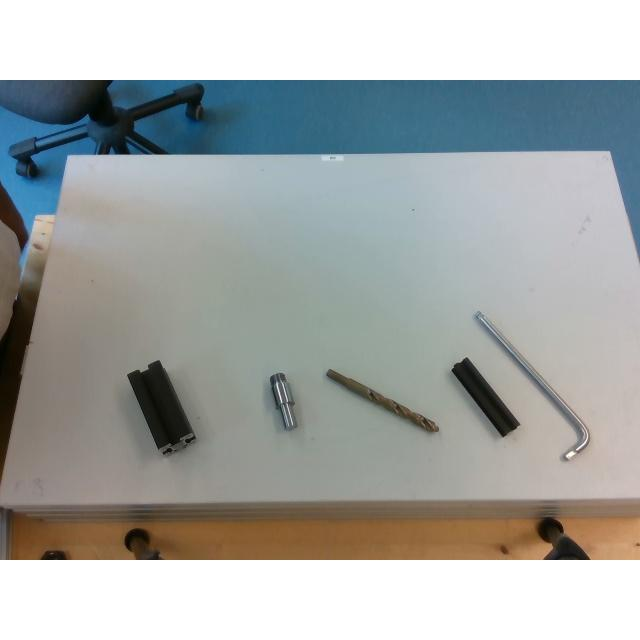AllenKey: (451, 308, 591, 460)
Axis2: (266, 370, 298, 430)
Drill: (326, 368, 438, 432)
F20_20_B: (450, 356, 518, 436)
S40_40_B: (127, 360, 195, 456)
